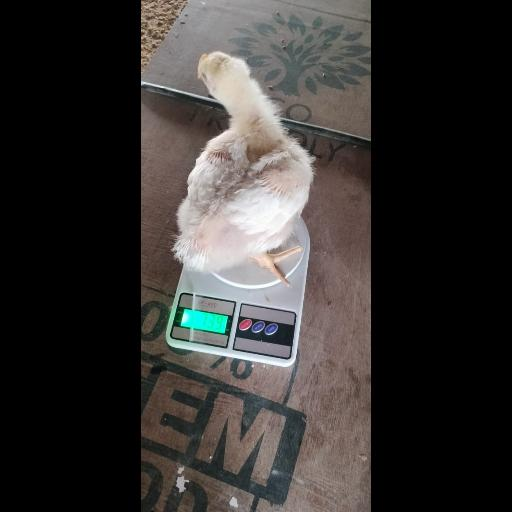chick: (174, 54, 313, 287)
